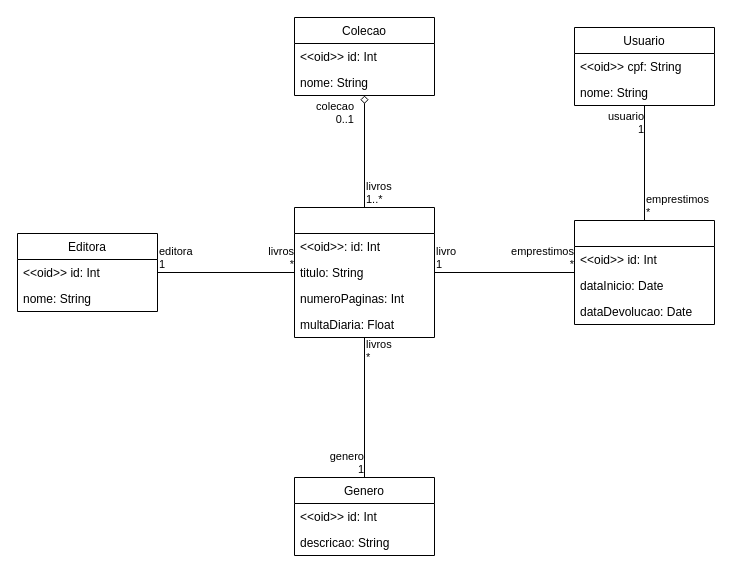
The diagram is 732 pixels wide and 576 high, and some of its shapes have lost their labels. Each missing label, with the box of its shape:
Emprestimo: (574, 220, 714, 324)
Livro: (294, 206, 434, 338)
